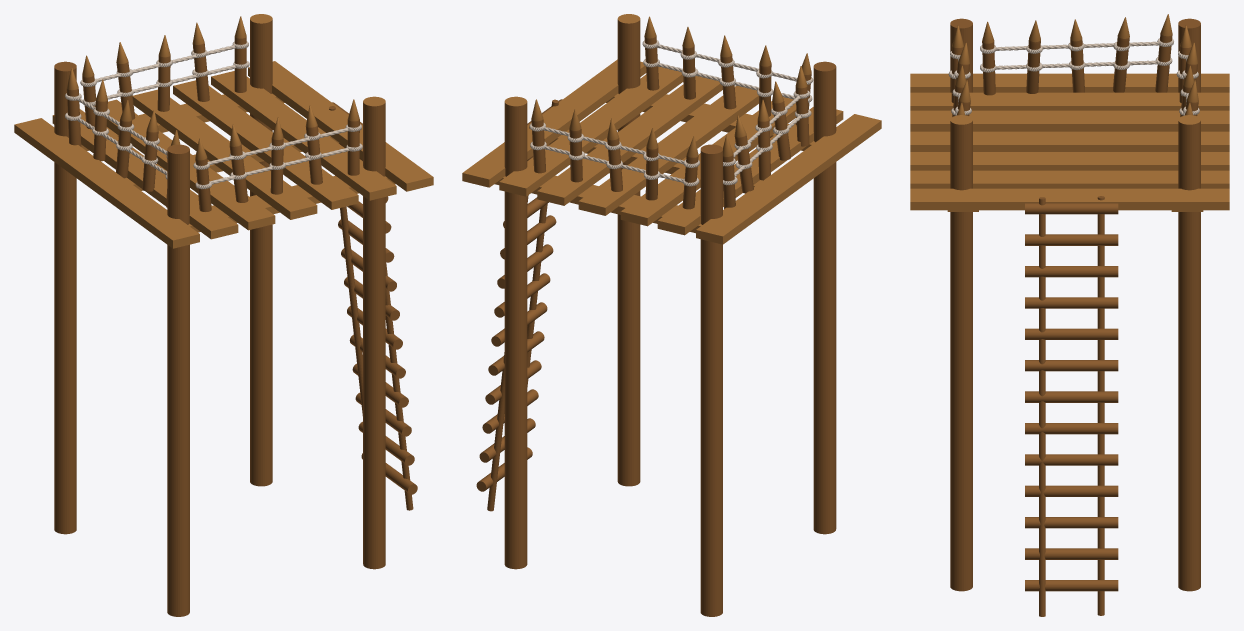
File: Holztrum.fbx
3 renders of one model, left to right at view 1: azimuth 30°, elevation 25°; view 2: azimuth 150°, elevation 25°; view 3: azimuth 270°, elevation 25°, orthographic.
Visible parts, largest first — view 1: Zylinder.003, Zylinder.004; view 2: Zylinder.003, Zylinder.004; view 3: Zylinder.003, Zylinder.004.
Part boxes in pixels (x1,y1,x2,y2): Zylinder.003: (14,14,433,616); Zylinder.004: (332,102,417,494); Zylinder.003: (462,14,881,616); Zylinder.004: (476,99,562,491); Zylinder.003: (910,14,1229,616); Zylinder.004: (1025,203,1118,591).
Bounding box in the file's own units: 308 × 455 × 277.
